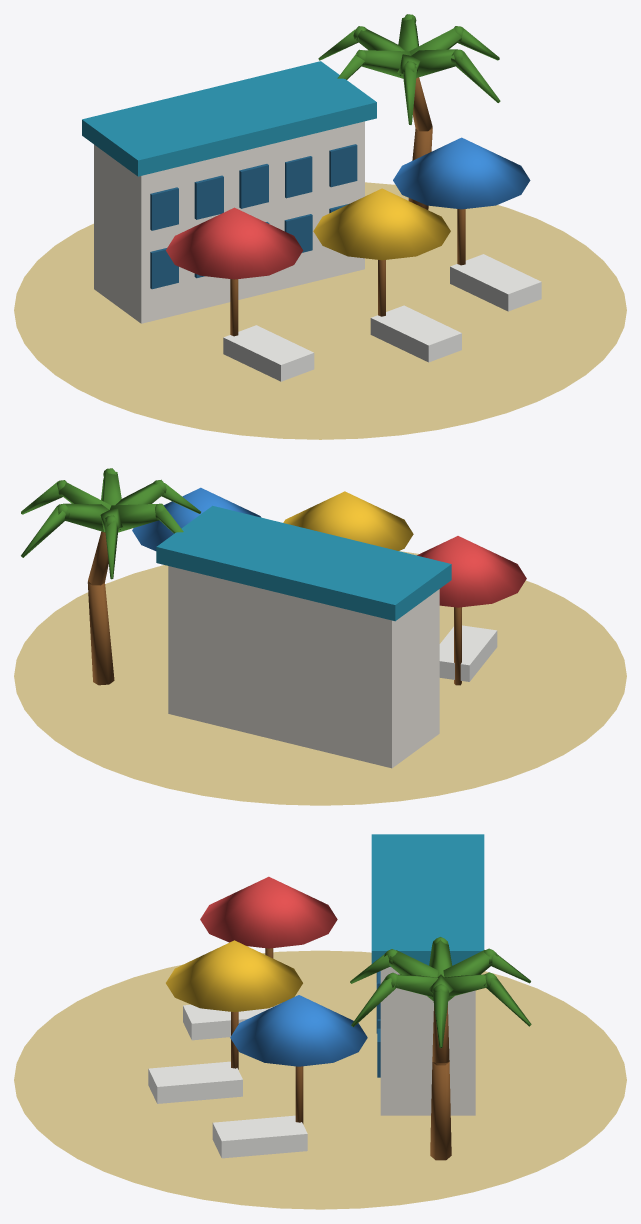
Rendered from improvement_beach_resort.fbx.
3 views of the same model, one above another, from view 1: azimuth 30°, elevation 25°; view 2: azimuth 150°, elevation 25°; view 3: azimuth 270°, elevation 25° (orthographic).
Parts seen in each view (by area): view 1: improvement_beach_resort_sg#e8d49a_00, improvement_beach_resort_hotelw_01, improvement_beach_resort_hotelr_02, improvement_beach_resort_lounge_06, improvement_beach_resort_hotelwin_03, improvement_beach_resort_umb#3a8ad8_08, improvement_beach_resort_umb#f0c030_07, improvement_beach_resort_umb#e04a4a_05, improvement_beach_resort_palm_09, improvement_beach_resort_wood#8a5a2c.008_04; view 2: improvement_beach_resort_sg#e8d49a_00, improvement_beach_resort_hotelw_01, improvement_beach_resort_hotelr_02, improvement_beach_resort_palm_09, improvement_beach_resort_umb#e04a4a_05, improvement_beach_resort_umb#f0c030_07, improvement_beach_resort_wood#8a5a2c.008_04, improvement_beach_resort_lounge_06, improvement_beach_resort_umb#3a8ad8_08; view 3: improvement_beach_resort_sg#e8d49a_00, improvement_beach_resort_hotelr_02, improvement_beach_resort_hotelw_01, improvement_beach_resort_lounge_06, improvement_beach_resort_umb#f0c030_07, improvement_beach_resort_umb#3a8ad8_08, improvement_beach_resort_umb#e04a4a_05, improvement_beach_resort_palm_09, improvement_beach_resort_wood#8a5a2c.008_04.
Part boxes in pixels (bbox=[...]): improvement_beach_resort_sg#e8d49a_00: bbox=[14, 182, 626, 439]; improvement_beach_resort_hotelw_01: bbox=[94, 121, 364, 323]; improvement_beach_resort_hotelr_02: bbox=[82, 61, 376, 176]; improvement_beach_resort_lounge_06: bbox=[223, 254, 541, 381]; improvement_beach_resort_hotelwin_03: bbox=[150, 144, 357, 289]; improvement_beach_resort_umb#3a8ad8_08: bbox=[393, 137, 530, 209]; improvement_beach_resort_umb#f0c030_07: bbox=[313, 188, 450, 260]; improvement_beach_resort_umb#e04a4a_05: bbox=[166, 207, 303, 279]; improvement_beach_resort_palm_09: bbox=[318, 14, 500, 124]; improvement_beach_resort_wood#8a5a2c.008_04: bbox=[230, 77, 465, 336]; improvement_beach_resort_sg#e8d49a_00: bbox=[14, 551, 626, 805]; improvement_beach_resort_hotelw_01: bbox=[168, 566, 439, 768]; improvement_beach_resort_hotelr_02: bbox=[156, 505, 451, 621]; improvement_beach_resort_palm_09: bbox=[21, 468, 200, 579]; improvement_beach_resort_umb#e04a4a_05: bbox=[417, 536, 526, 607]; improvement_beach_resort_umb#f0c030_07: bbox=[283, 491, 413, 550]; improvement_beach_resort_wood#8a5a2c.008_04: bbox=[87, 531, 461, 685]; improvement_beach_resort_lounge_06: bbox=[439, 625, 497, 681]; improvement_beach_resort_umb#3a8ad8_08: bbox=[132, 487, 261, 550]; improvement_beach_resort_sg#e8d49a_00: bbox=[14, 950, 626, 1209]; improvement_beach_resort_hotelr_02: bbox=[371, 834, 484, 966]; improvement_beach_resort_hotelw_01: bbox=[380, 967, 475, 1115]; improvement_beach_resort_lounge_06: bbox=[148, 1004, 307, 1158]; improvement_beach_resort_umb#f0c030_07: bbox=[166, 940, 302, 1012]; improvement_beach_resort_umb#3a8ad8_08: bbox=[230, 995, 367, 1066]; improvement_beach_resort_umb#e04a4a_05: bbox=[200, 876, 337, 948]; improvement_beach_resort_palm_09: bbox=[350, 937, 531, 1047]; improvement_beach_resort_wood#8a5a2c.008_04: bbox=[231, 948, 451, 1160].
Size of the model in its own units: 142 by 49.15 by 142.
